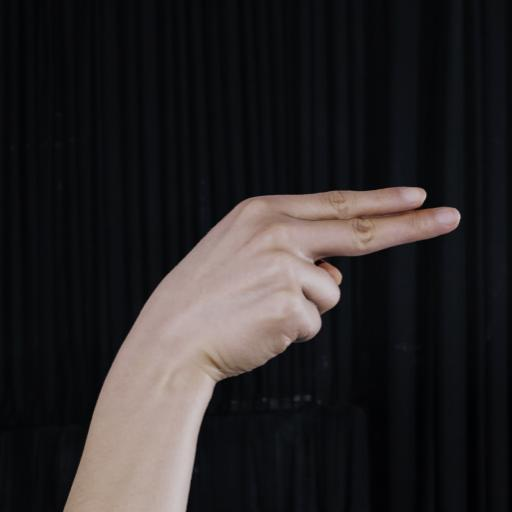H: (112, 182, 465, 394)
